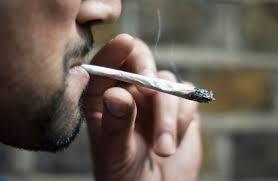smoke: (81, 64, 215, 104)
